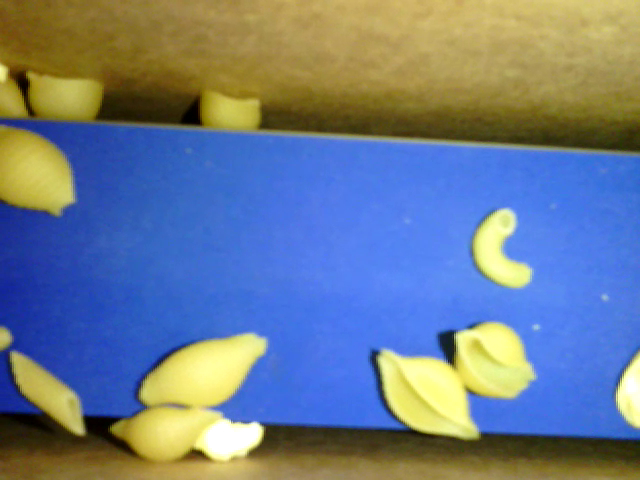elbow: (474, 204, 532, 290)
penne: (8, 348, 85, 439)
shell: (135, 332, 269, 409), (374, 346, 478, 438), (1, 123, 77, 218), (110, 403, 226, 461), (453, 322, 536, 400), (26, 71, 104, 120), (197, 89, 263, 132)
